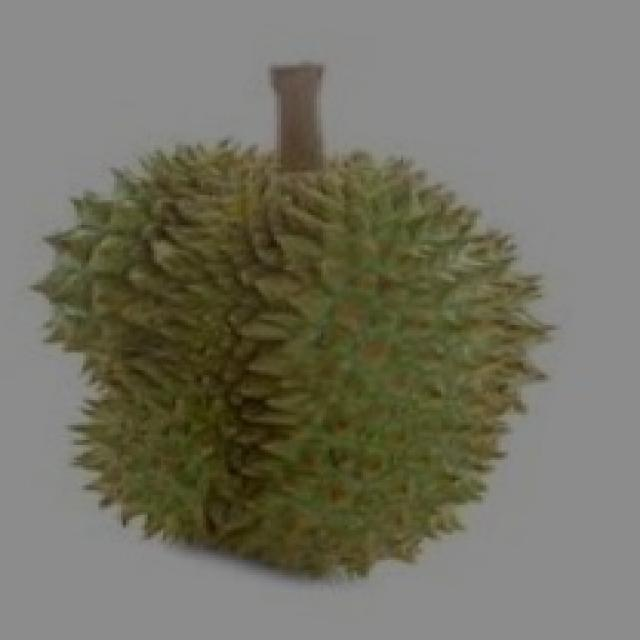fruit: (22, 263, 416, 625)
